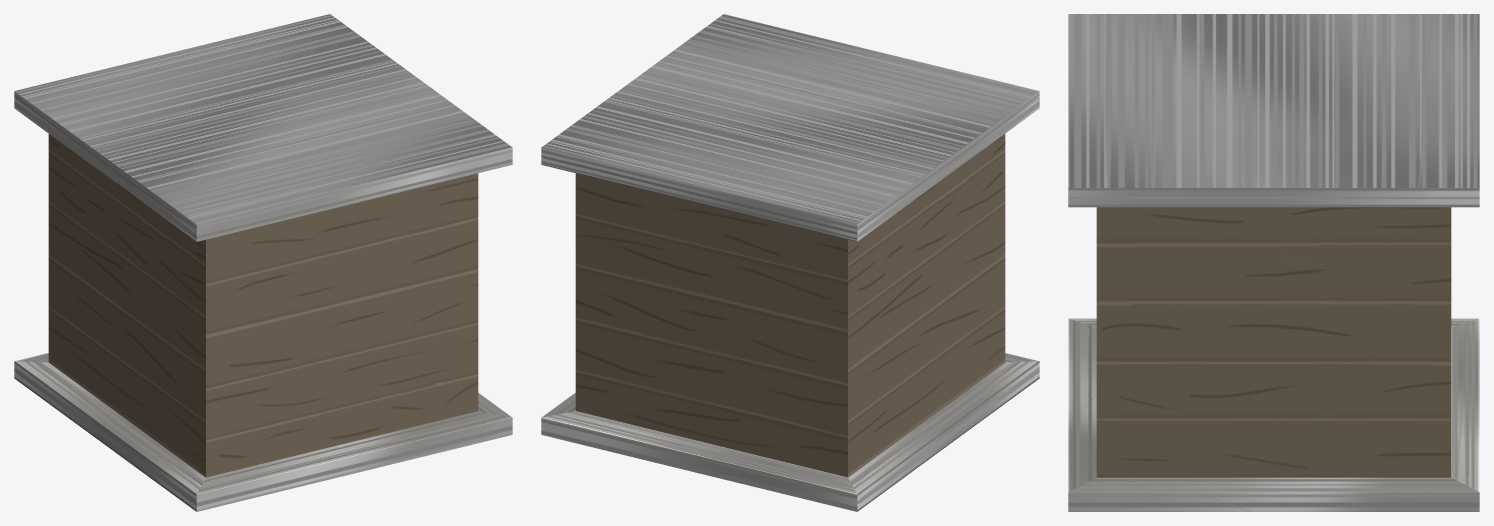
The model's file is Caixa.fbx.
3 views of the same model, side by side, from view 1: azimuth 30°, elevation 25°; view 2: azimuth 150°, elevation 25°; view 3: azimuth 270°, elevation 25° (orthographic). The views are drawn at different scales.
Visible parts, largest first — view 1: Cube; view 2: Cube; view 3: Cube.
Boxes of the visible parts, x1,y1,x2,y2 form: Cube: (14,14,512,511); Cube: (541,14,1039,511); Cube: (1068,14,1479,511).
Bounding box in the file's own units: 232 × 202 × 232.
